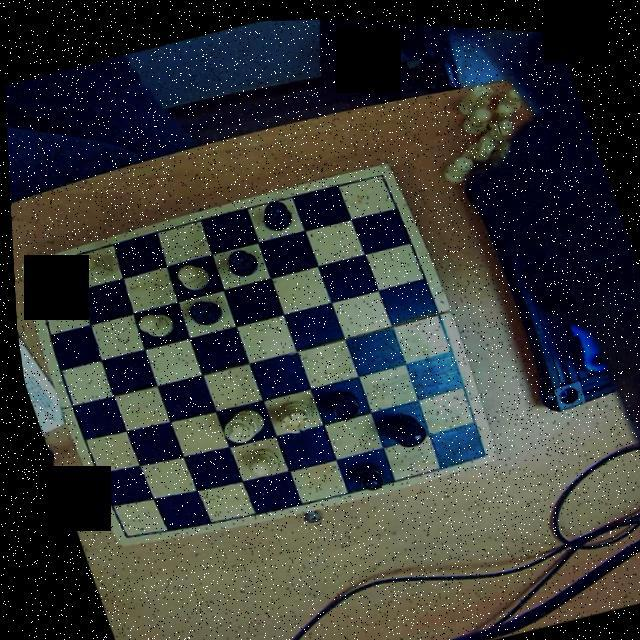chess-table-corners: (461, 430, 492, 460), (366, 157, 396, 185), (16, 254, 49, 278), (104, 517, 132, 543)
